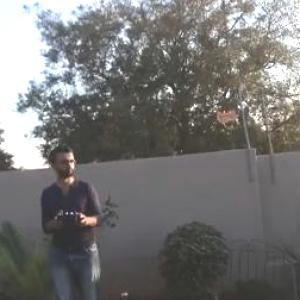follow: (34, 139, 109, 299)
